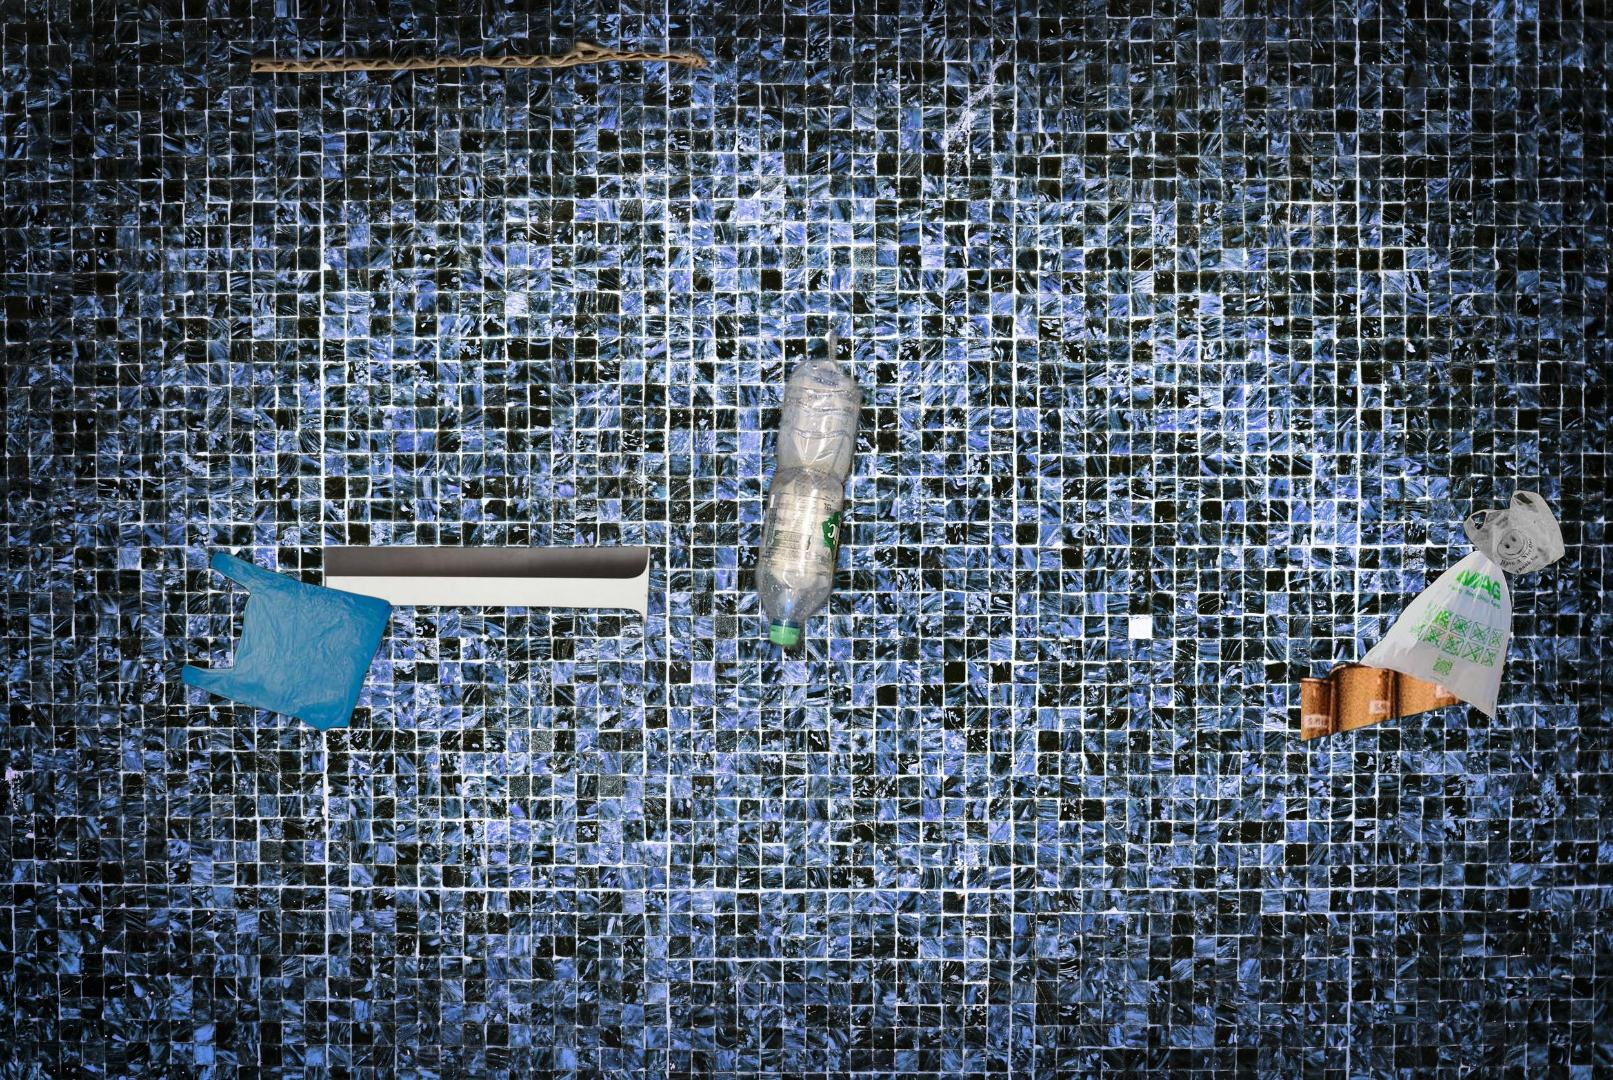paper: (315, 542, 656, 790)
plastic-bag: (1301, 486, 1570, 745), (178, 548, 395, 733)
plastic-bottles: (749, 319, 872, 659)
trashbox-cardboard: (251, 7, 718, 78)
